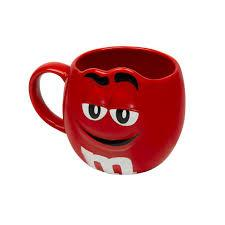Mug: (28, 42, 202, 185)
